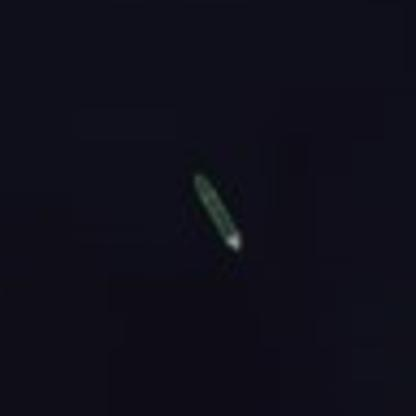ship: (182, 169, 248, 258)
